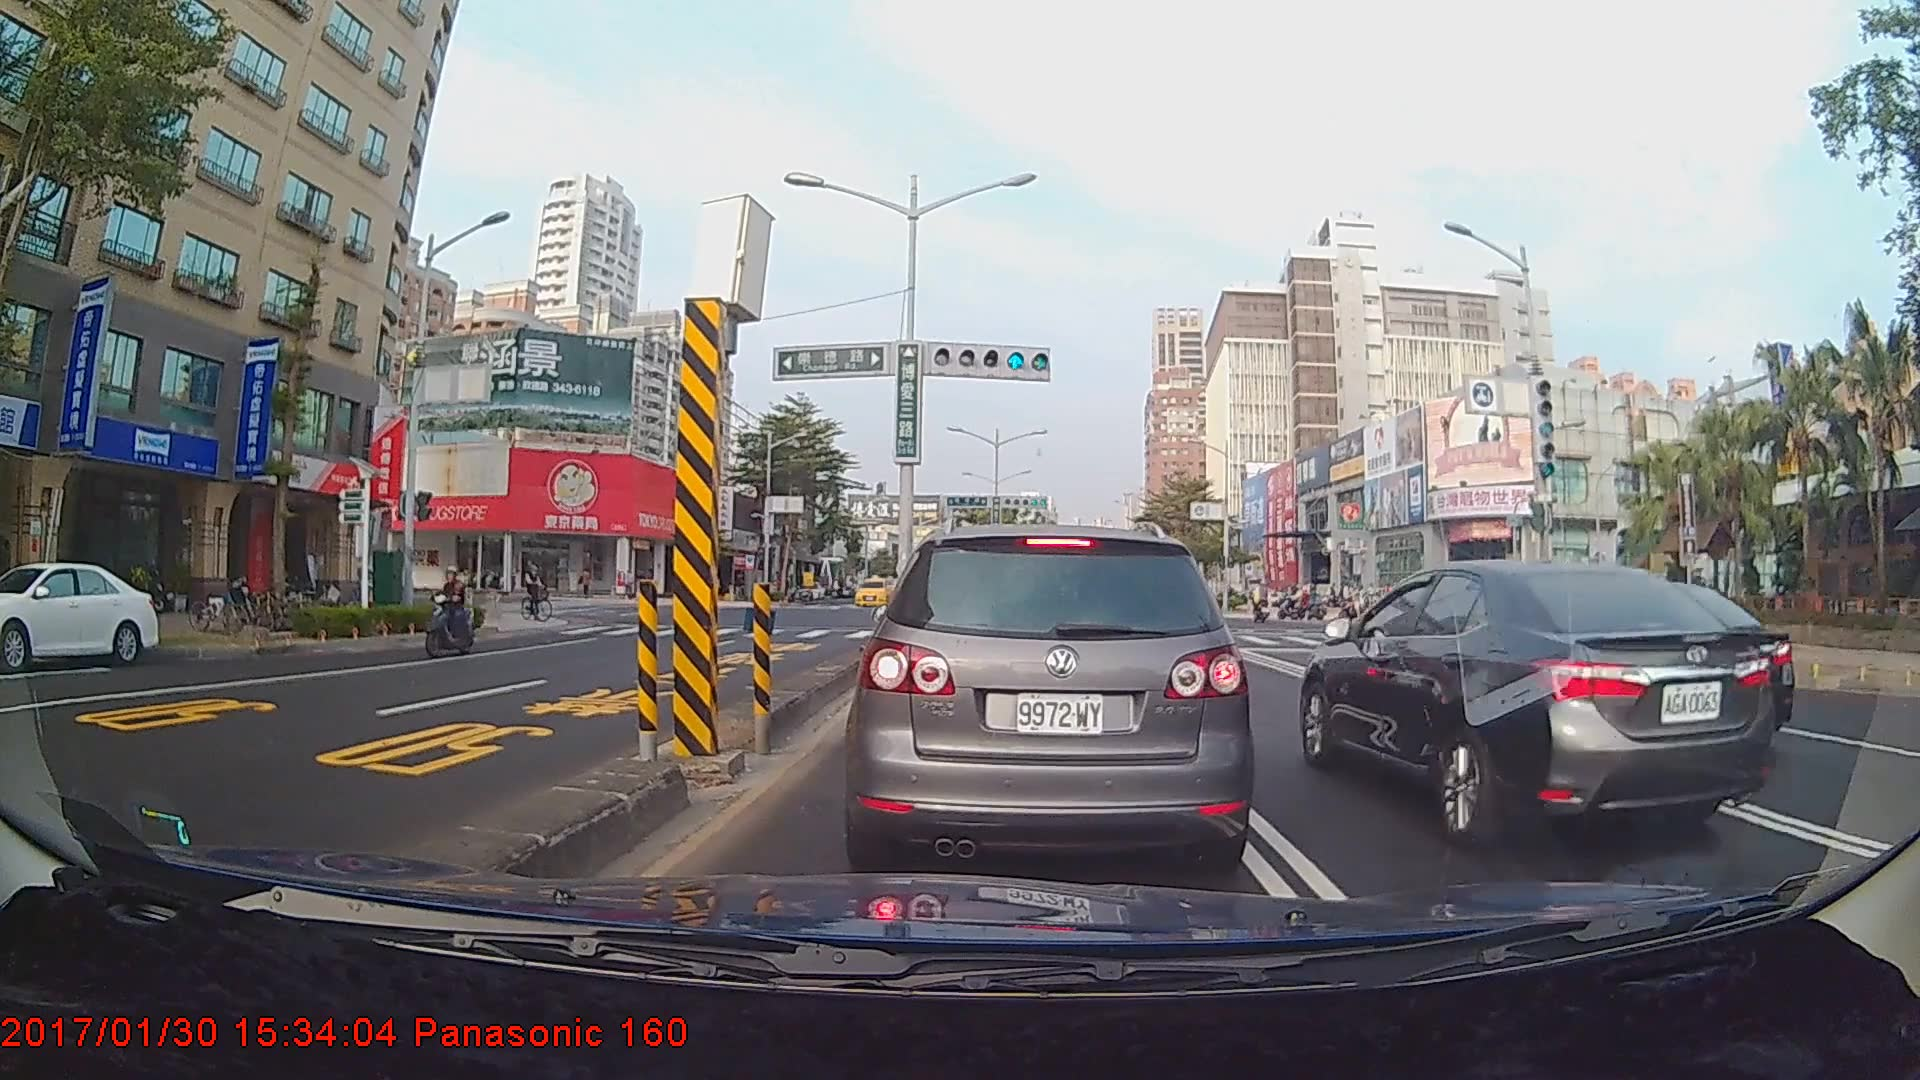rider: (418, 564, 481, 662), (518, 559, 561, 623), (1246, 574, 1273, 631)
vehicle: (1304, 551, 1787, 851), (853, 519, 1247, 873), (1533, 575, 1797, 742), (0, 561, 162, 671), (854, 577, 891, 606)
